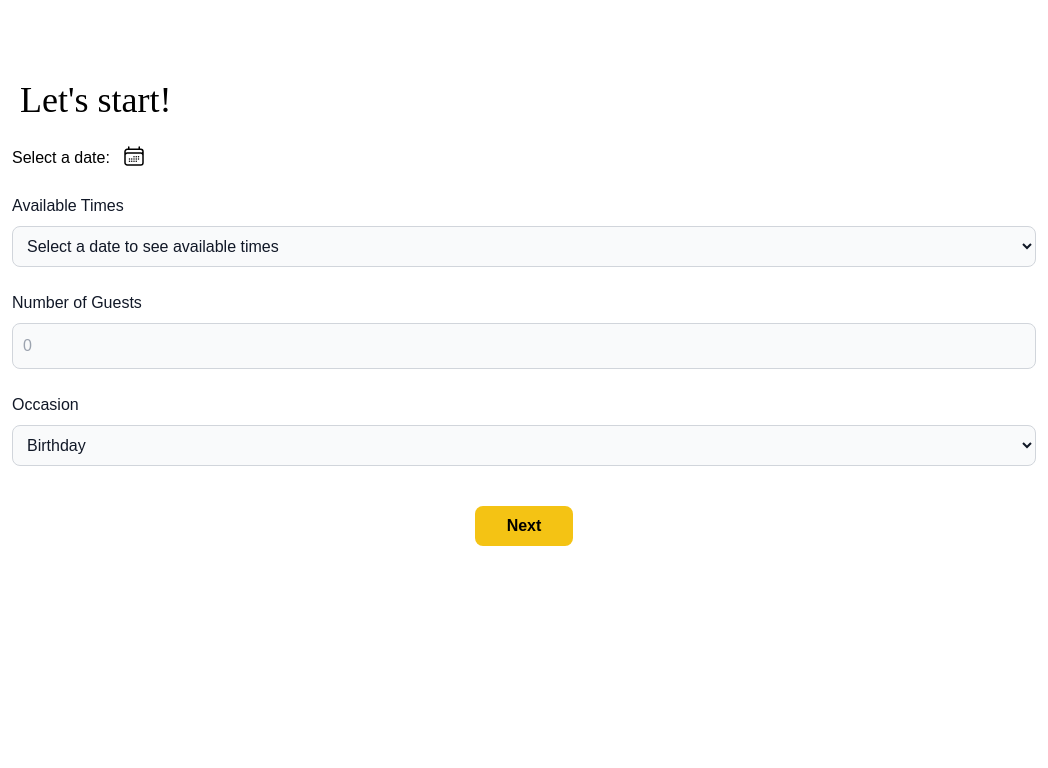
it: Number of Guests when recieved a string
Type "Carlos" into the field labelled "Number of Guests" at (524, 346), box [12,323,1036,369]
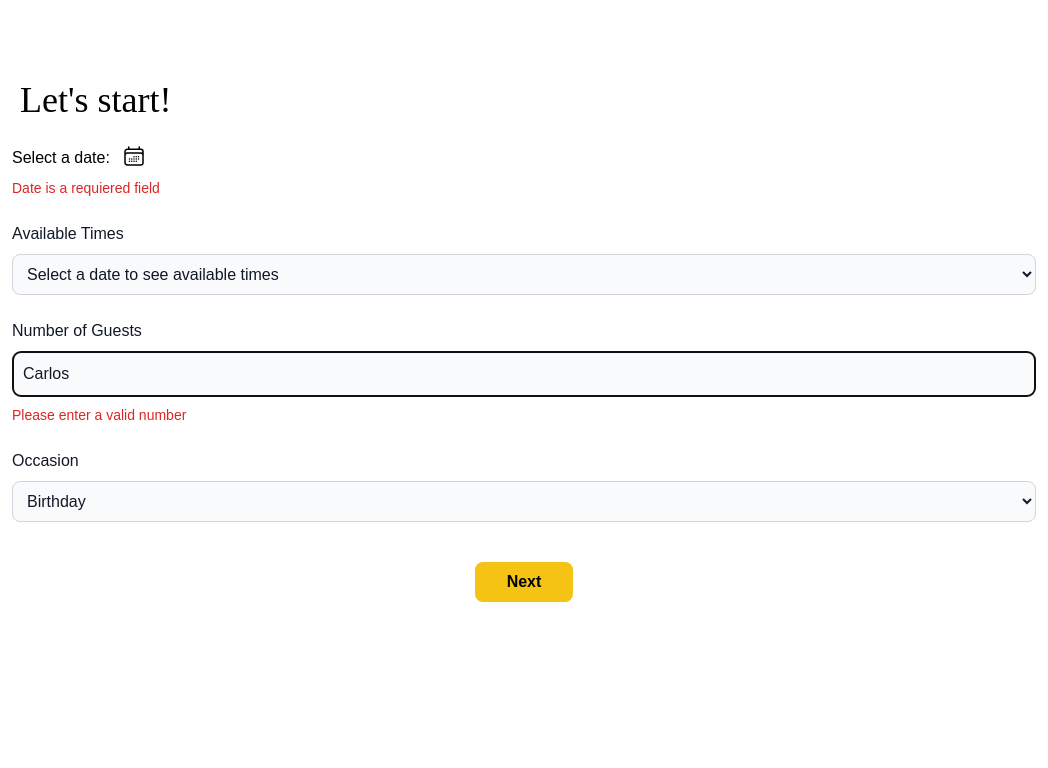
expect the text "Please enter a valid number" is shown: met, box [12,407,186,423]
